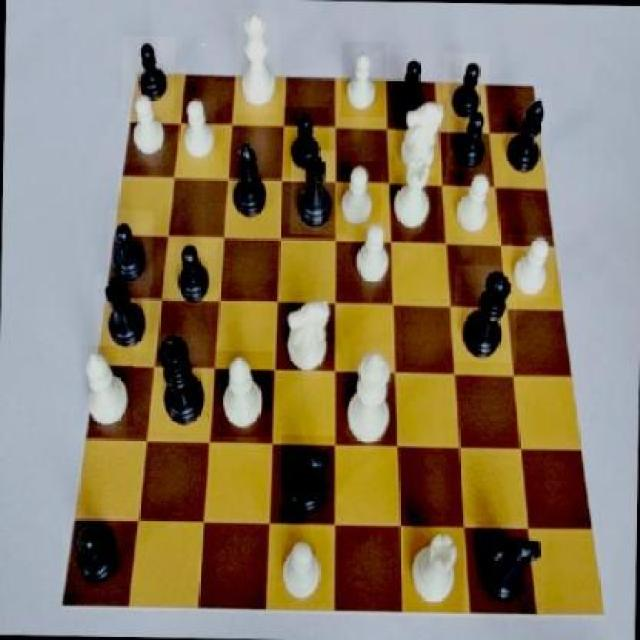bishop: (224, 137, 274, 234), (503, 90, 551, 188)
black-bishop: (150, 332, 208, 432)
black-king: (470, 524, 546, 614), (278, 435, 334, 523)
black-knight: (60, 516, 120, 596), (121, 37, 176, 111), (280, 106, 329, 179), (108, 210, 154, 286), (168, 240, 218, 305), (446, 111, 491, 183), (443, 52, 489, 120), (384, 54, 426, 127)
black-pawn: (454, 265, 517, 362)
black-queen: (94, 276, 151, 352), (291, 151, 337, 235)
black-rook: (212, 351, 272, 437), (78, 346, 134, 427)
white-bishop: (346, 344, 397, 448)
white-king: (282, 292, 336, 377), (395, 99, 448, 178)
white-knight: (275, 530, 328, 602), (340, 42, 386, 118), (124, 91, 170, 166), (337, 160, 381, 234), (344, 223, 390, 290), (449, 171, 494, 238), (508, 234, 555, 297), (181, 97, 217, 177)
white-pawn: (235, 11, 280, 115)
white-queen: (401, 526, 464, 613), (389, 156, 438, 242)
